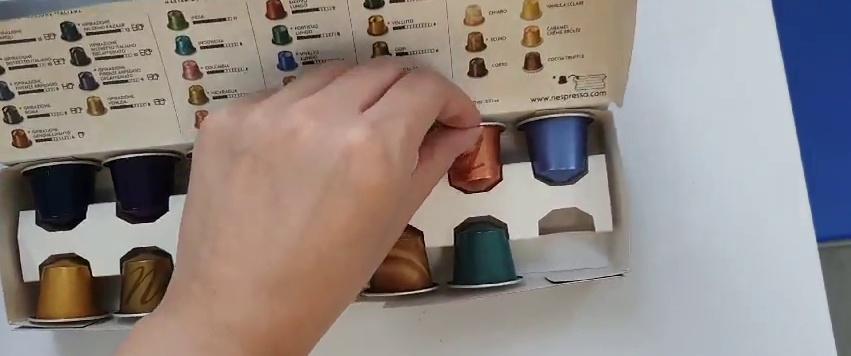capsule_6: (433, 120, 509, 194)
